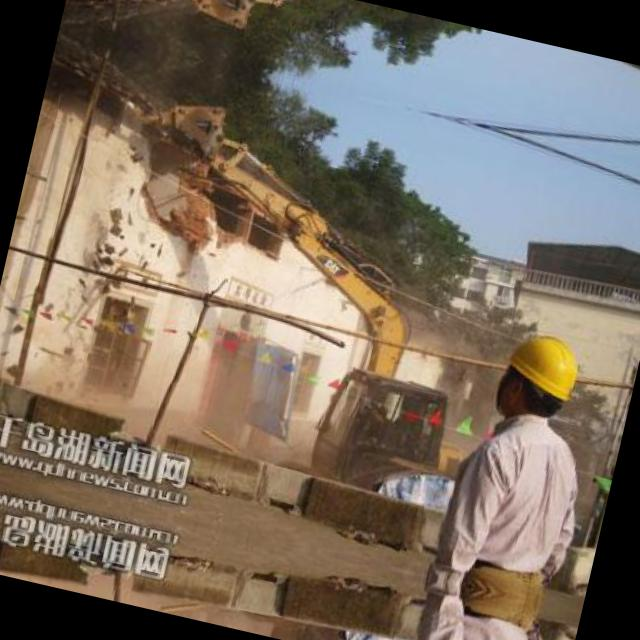helmet: (483, 319, 591, 436)
